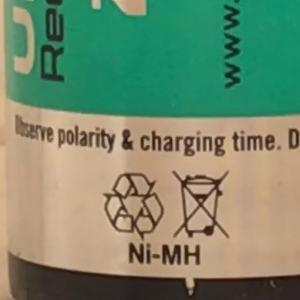keyword: (119, 235, 210, 274)
